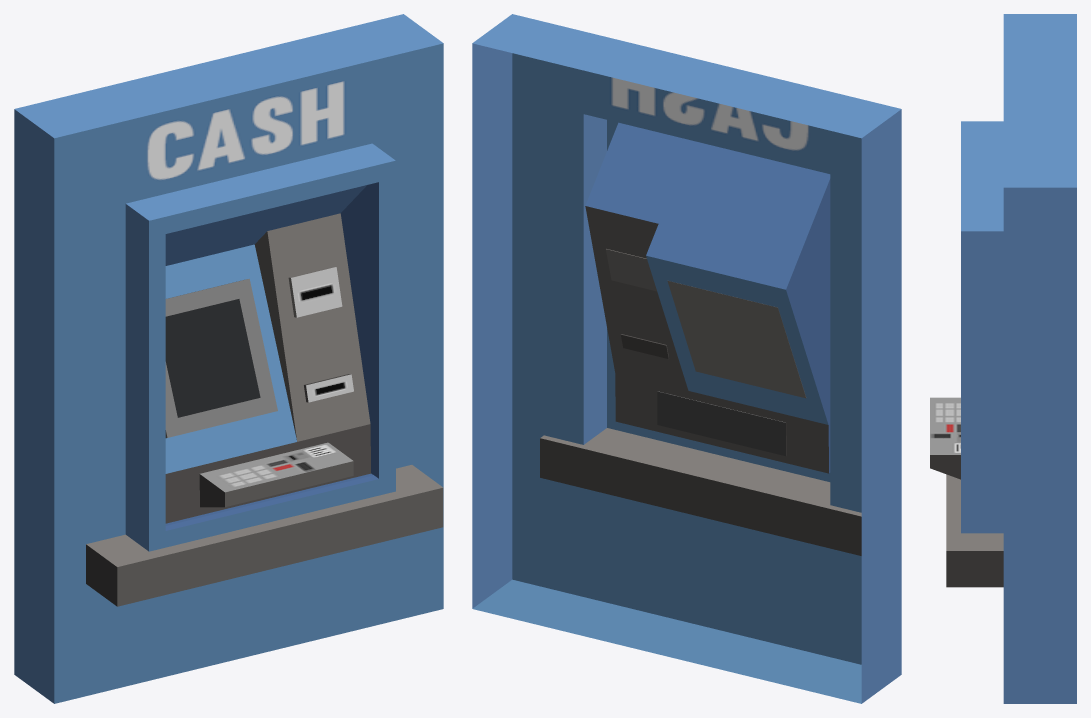
Rendered from SM_Atm_Blue_01.fbx.
3 views of the same model, side by side, from view 1: azimuth 30°, elevation 25°; view 2: azimuth 150°, elevation 25°; view 3: azimuth 270°, elevation 25° (orthographic). The views are drawn at different scales.
Visible parts, largest first — view 1: SM_Atm_Blue_01; view 2: SM_Atm_Blue_01; view 3: SM_Atm_Blue_01.
Part boxes in pixels (bbox=[...]): SM_Atm_Blue_01: bbox=[14, 14, 443, 703]; SM_Atm_Blue_01: bbox=[472, 14, 901, 703]; SM_Atm_Blue_01: bbox=[930, 14, 1076, 703].
Bounding box in the file's own units: 1.91 × 2.65 × 0.6824.
